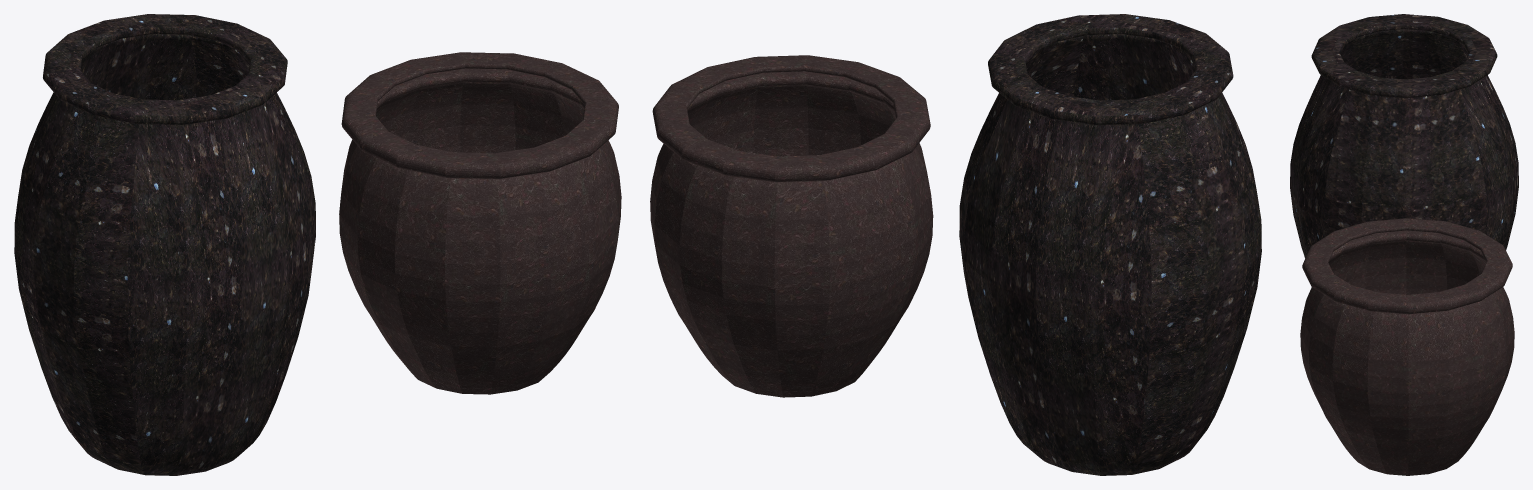
3 views of the same model, side by side, from view 1: azimuth 30°, elevation 25°; view 2: azimuth 150°, elevation 25°; view 3: azimuth 270°, elevation 25° (orthographic). The views are drawn at different scales.
Visible parts, largest first — view 1: qingmo_obj_390 [10485995], qingmo_obj_386 [10486007]; view 2: qingmo_obj_390 [10485995], qingmo_obj_386 [10486007]; view 3: qingmo_obj_386 [10486007], qingmo_obj_390 [10485995].
Part boxes in pixels (x1,y1,x2,y2): qingmo_obj_390 [10485995]: [14, 14, 315, 475]; qingmo_obj_386 [10486007]: [339, 52, 621, 394]; qingmo_obj_390 [10485995]: [959, 14, 1261, 475]; qingmo_obj_386 [10486007]: [650, 55, 933, 397]; qingmo_obj_386 [10486007]: [1300, 218, 1514, 475]; qingmo_obj_390 [10485995]: [1290, 14, 1518, 258].
Bounding box in the file's own units: 16.24 × 7.49 × 10.29.
2 materials, 2 textured.
